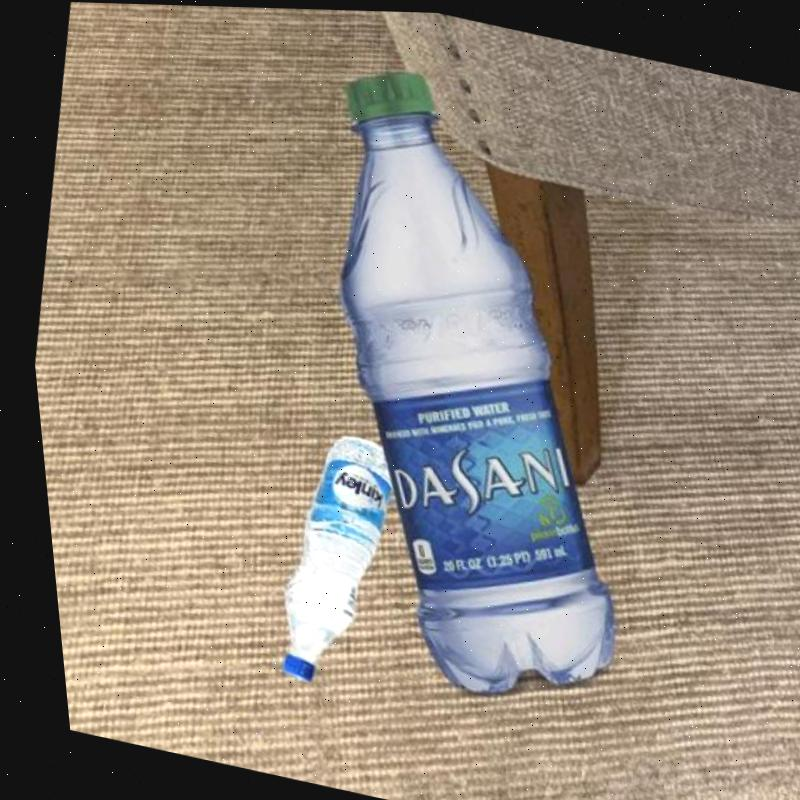botella: (224, 52, 711, 732), (242, 420, 401, 693)
